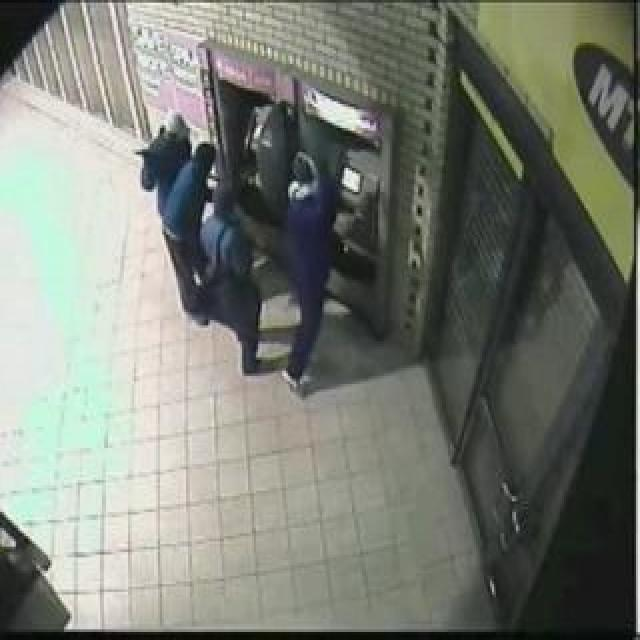thief: (119, 100, 342, 284)
